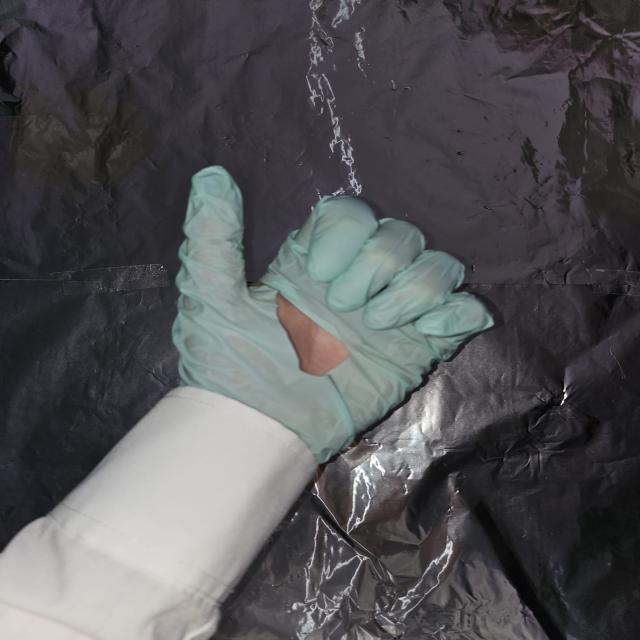gloves_damaged: (168, 161, 496, 460)
